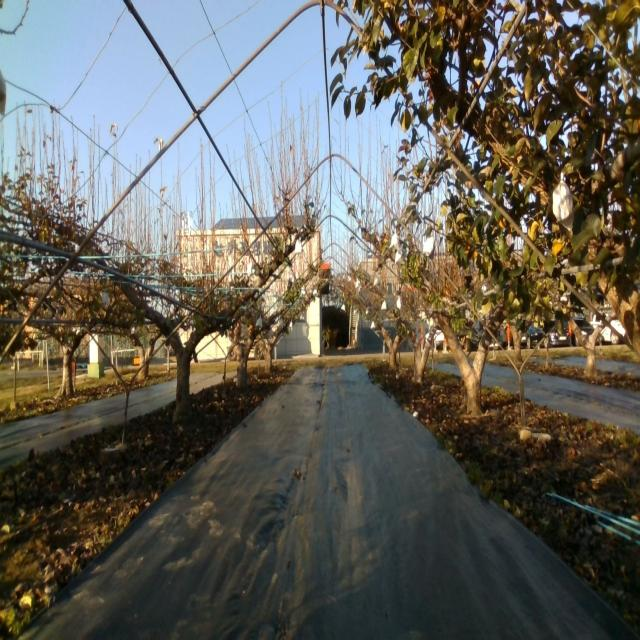pearbags: (552, 179, 576, 232), (422, 235, 436, 259)
